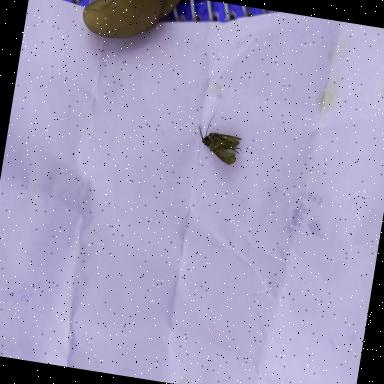pbw: (192, 106, 248, 168)
